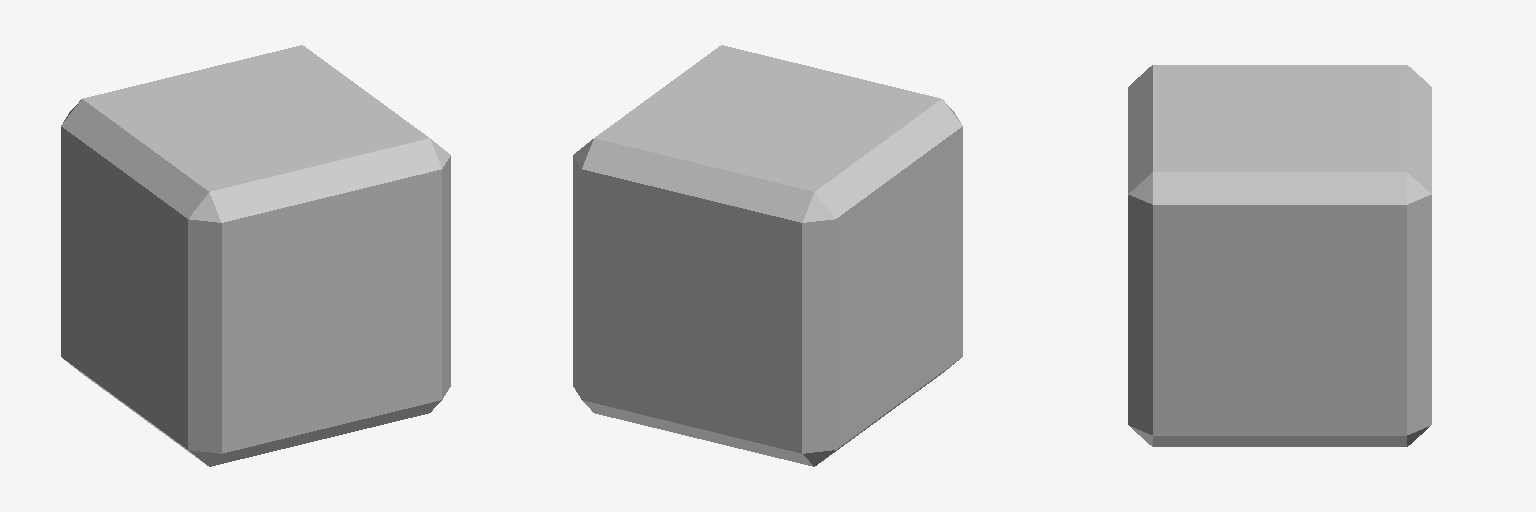
Rendered from HardBlock.obj.
3 views of the same model, side by side, from view 1: azimuth 30°, elevation 25°; view 2: azimuth 150°, elevation 25°; view 3: azimuth 270°, elevation 25° (orthographic).
Parts seen in each view (by area): view 1: 立方体; view 2: 立方体; view 3: 立方体.
Boxes of the visible parts, x1,y1,x2,y2 form: 立方体: [61, 45, 450, 466]; 立方体: [573, 45, 962, 466]; 立方体: [1128, 65, 1431, 446].
Bounding box in the file's own units: 2 × 2 × 2.